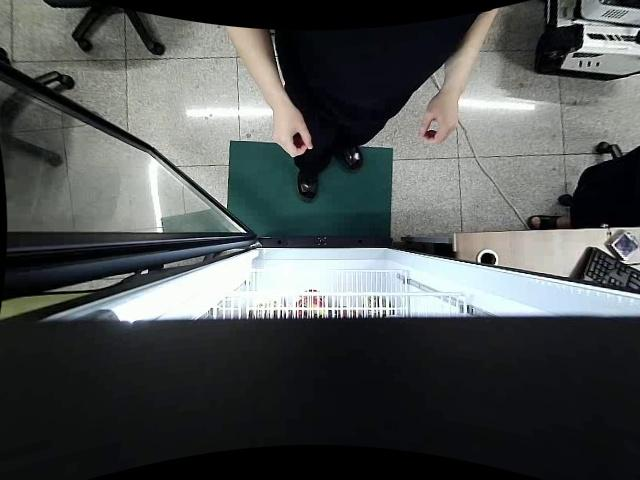00_hand: (272, 108, 313, 160), (419, 97, 459, 146)
